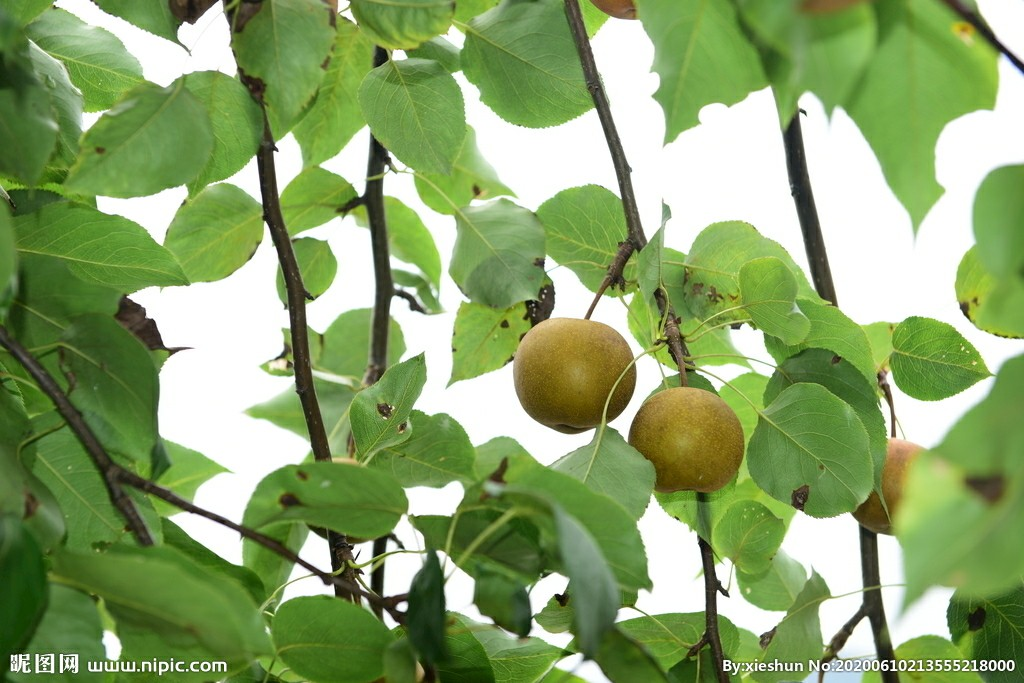pear: (514, 316, 635, 433), (628, 384, 742, 491), (849, 438, 935, 537)
